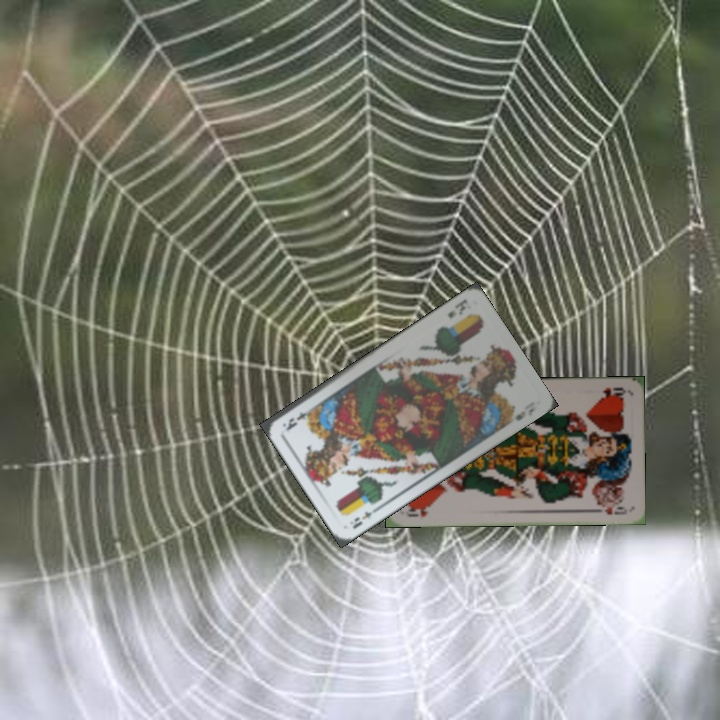EK: (346, 503, 381, 532), (444, 295, 471, 321)
HO: (402, 503, 433, 520), (596, 383, 628, 399)
